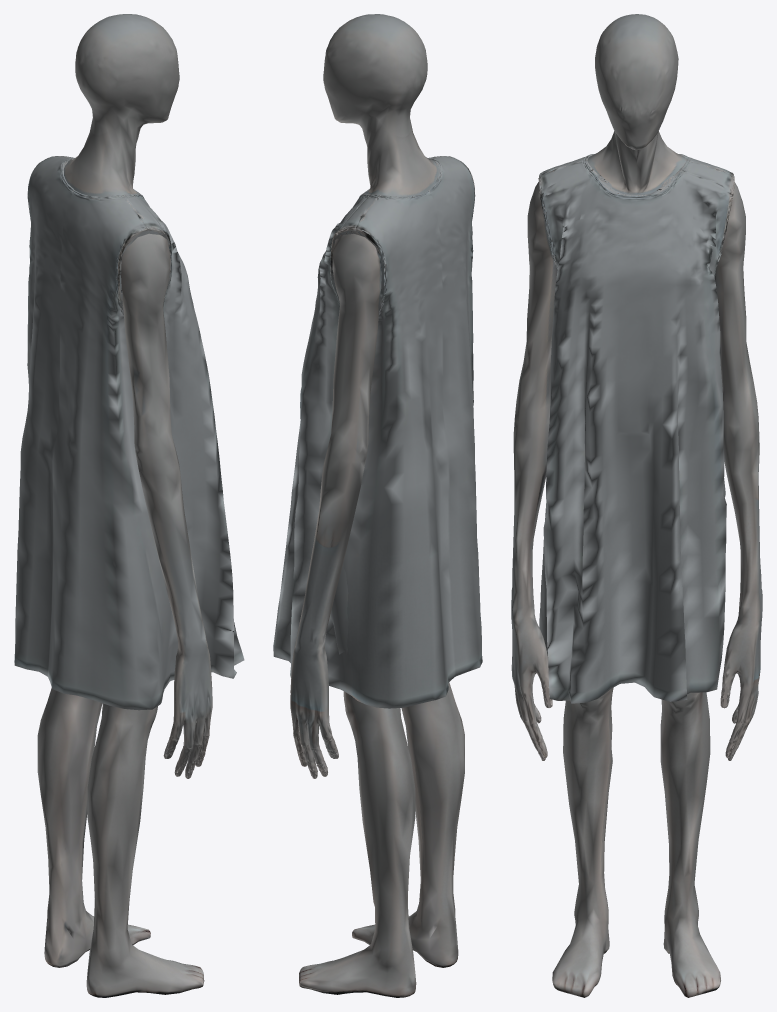
The model's file is clean.glb.
The picture shows the model from 3 angles, left to right: view 1: azimuth 30°, elevation 25°; view 2: azimuth 150°, elevation 25°; view 3: azimuth 270°, elevation 25°; orthographic projection.
Parts seen in each view (by area): view 1: Model; view 2: Model; view 3: Model.
Boxes of the visible parts, x1,y1,x2,y2 form: Model: [14, 14, 244, 997]; Model: [273, 14, 482, 997]; Model: [511, 14, 762, 997].
Bounding box in the file's own units: 0.1948 × 0.9995 × 0.2393.
1 material, 1 textured.
